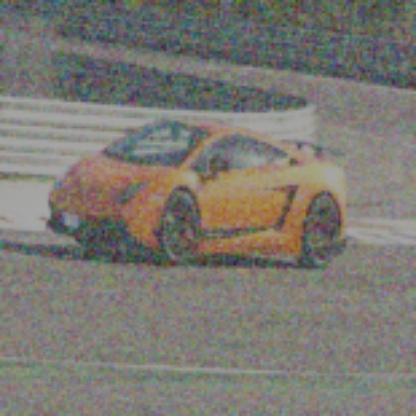Vehicle: (44, 112, 350, 273)
